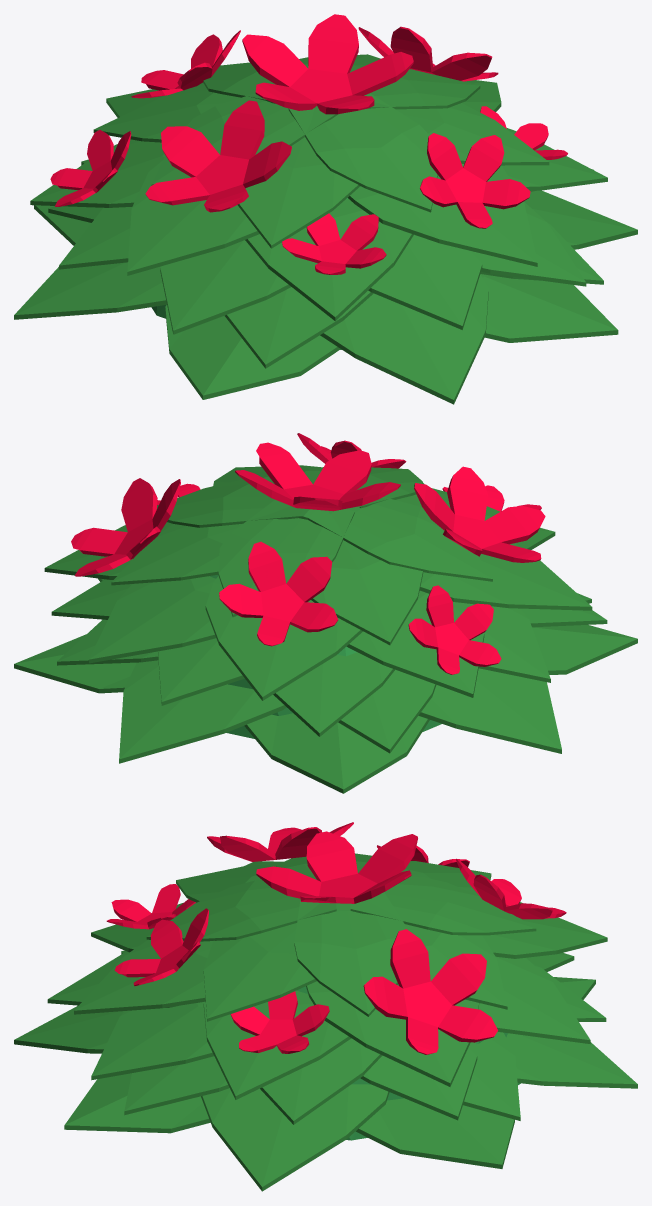
The model's file is BushRedFlowers.fbx.
3 views of the same model, one above another, from view 1: azimuth 30°, elevation 25°; view 2: azimuth 150°, elevation 25°; view 3: azimuth 270°, elevation 25° (orthographic). The views are drawn at different scales.
Parts seen in each view (by area): view 1: BushRedFlowers; view 2: BushRedFlowers; view 3: BushRedFlowers.
Part boxes in pixels (bbox=[...]): BushRedFlowers: bbox=[14, 14, 637, 404]; BushRedFlowers: bbox=[14, 433, 637, 793]; BushRedFlowers: bbox=[14, 822, 637, 1191].
Bounding box in the file's own units: 991 × 373 × 999.
